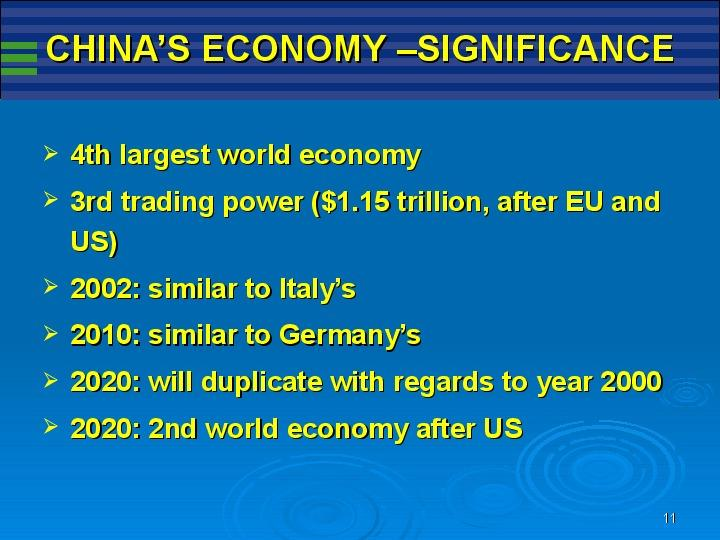paragraph: (28, 124, 704, 456)
title: (43, 21, 682, 81)
